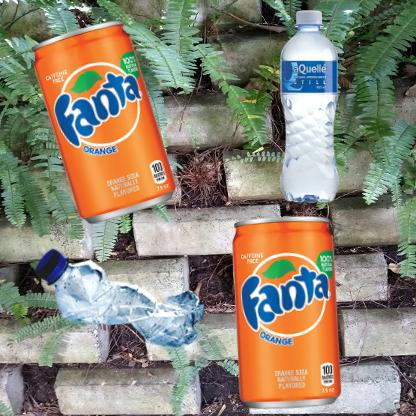botella: (10, 213, 290, 416), (213, 10, 406, 203)
lata: (10, 10, 216, 259), (213, 213, 362, 416)
